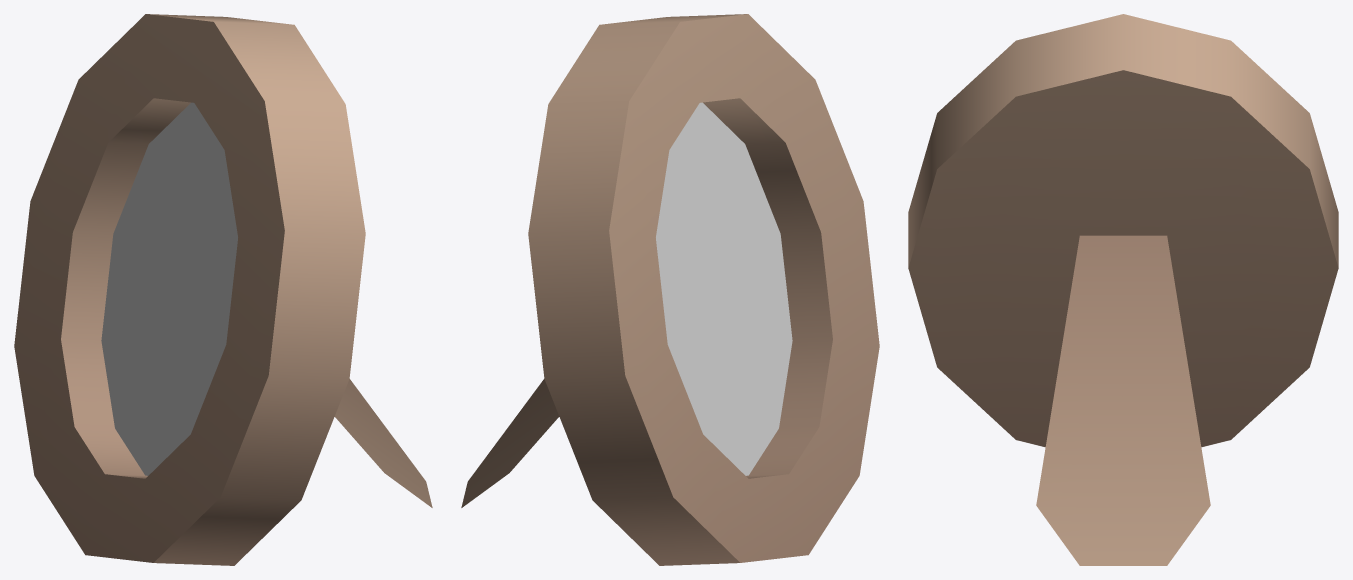
The model's file is picture-frame-round.glb.
3 views of the same model, side by side, from view 1: azimuth 30°, elevation 25°; view 2: azimuth 150°, elevation 25°; view 3: azimuth 270°, elevation 25° (orthographic). The views are drawn at different scales.
Parts seen in each view (by area): view 1: picture-frame-round; view 2: picture-frame-round; view 3: picture-frame-round.
Part boxes in pixels (x1,y1,x2,y2): picture-frame-round: (14, 14, 432, 565); picture-frame-round: (461, 14, 879, 565); picture-frame-round: (908, 14, 1338, 565).
Size of the model in its own units: 0.193 by 0.2993 by 0.2465.
